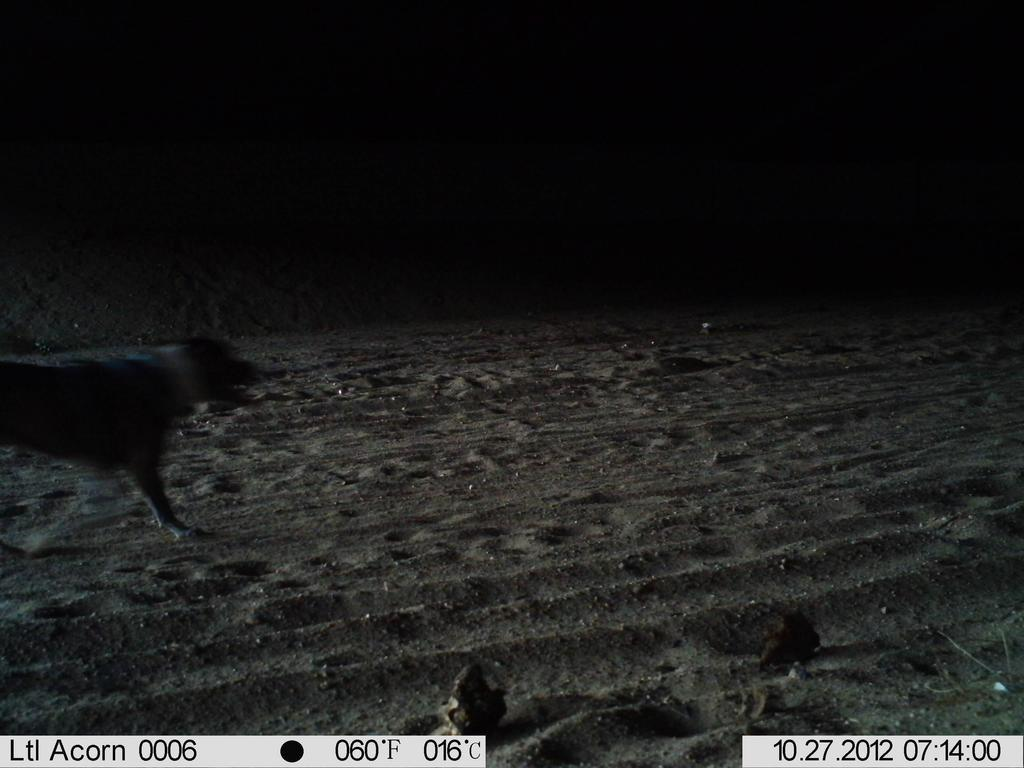dog: (1, 309, 285, 555)
